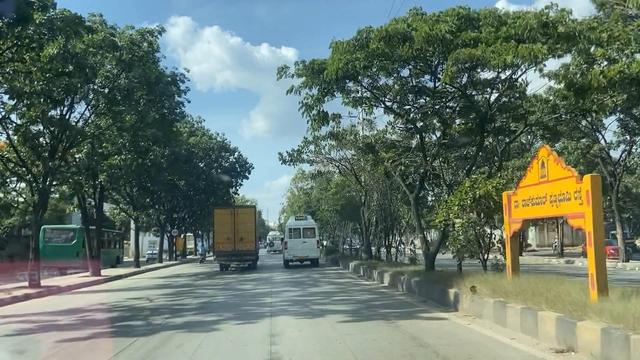HMV: (209, 203, 260, 271), (291, 209, 325, 270)
